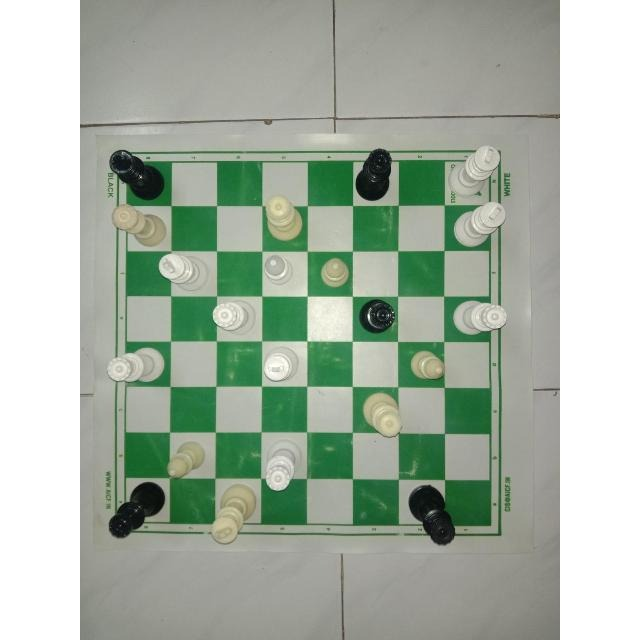black-king: (105, 145, 169, 201)
black-queen: (103, 480, 169, 540), (405, 482, 461, 552), (358, 140, 396, 202), (357, 291, 399, 334)
white-bishop: (401, 338, 454, 390), (161, 439, 214, 483), (258, 248, 306, 296), (313, 252, 363, 297)
white-king: (208, 476, 259, 550), (446, 198, 512, 250), (444, 143, 506, 197), (155, 250, 211, 296), (260, 342, 305, 387)
white-queen: (105, 198, 164, 248), (447, 297, 510, 341), (99, 347, 167, 386), (262, 438, 308, 494), (363, 392, 407, 444), (261, 198, 303, 246), (208, 297, 254, 335)
